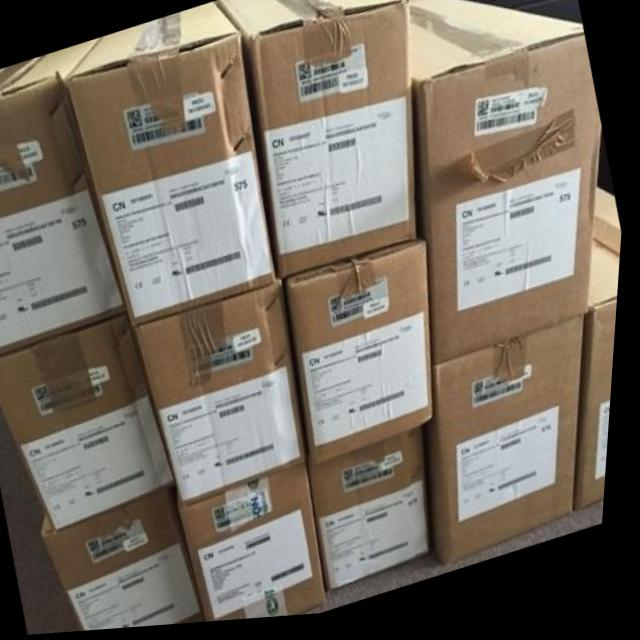box: (398, 0, 603, 370), (68, 3, 282, 331), (216, 0, 422, 284), (0, 39, 131, 358), (0, 313, 183, 533), (429, 323, 589, 574), (136, 283, 314, 506), (288, 246, 441, 473), (184, 464, 335, 625), (48, 490, 214, 633), (315, 432, 438, 597), (579, 196, 625, 520)
